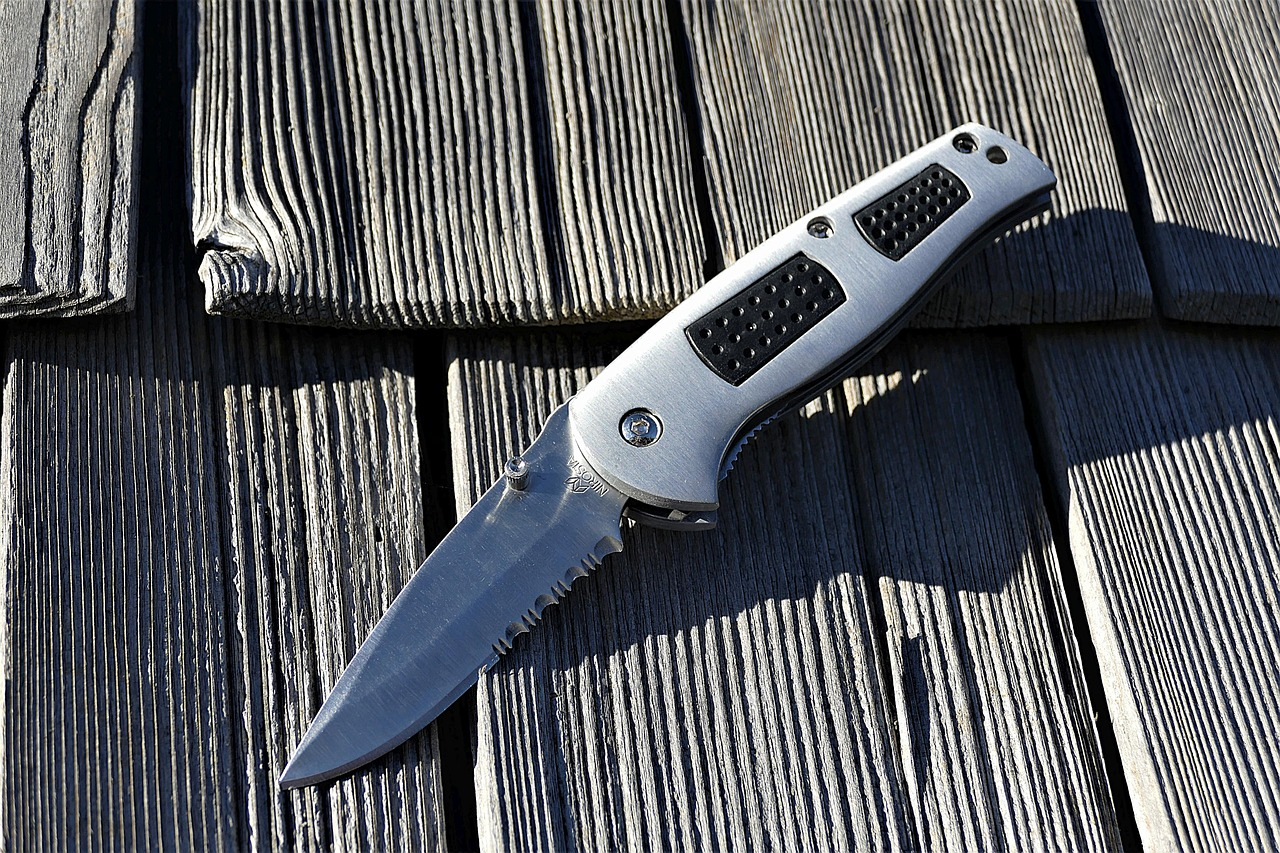knife: (265, 115, 1067, 797)
